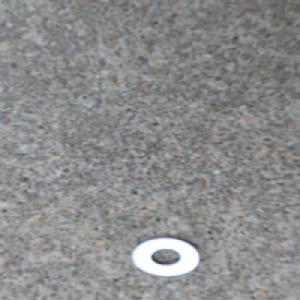Washer: (129, 235, 203, 277)
